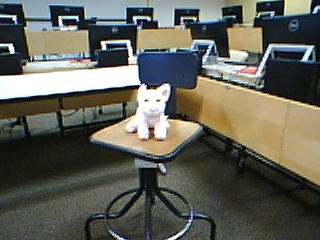piggy: (125, 82, 172, 142)
